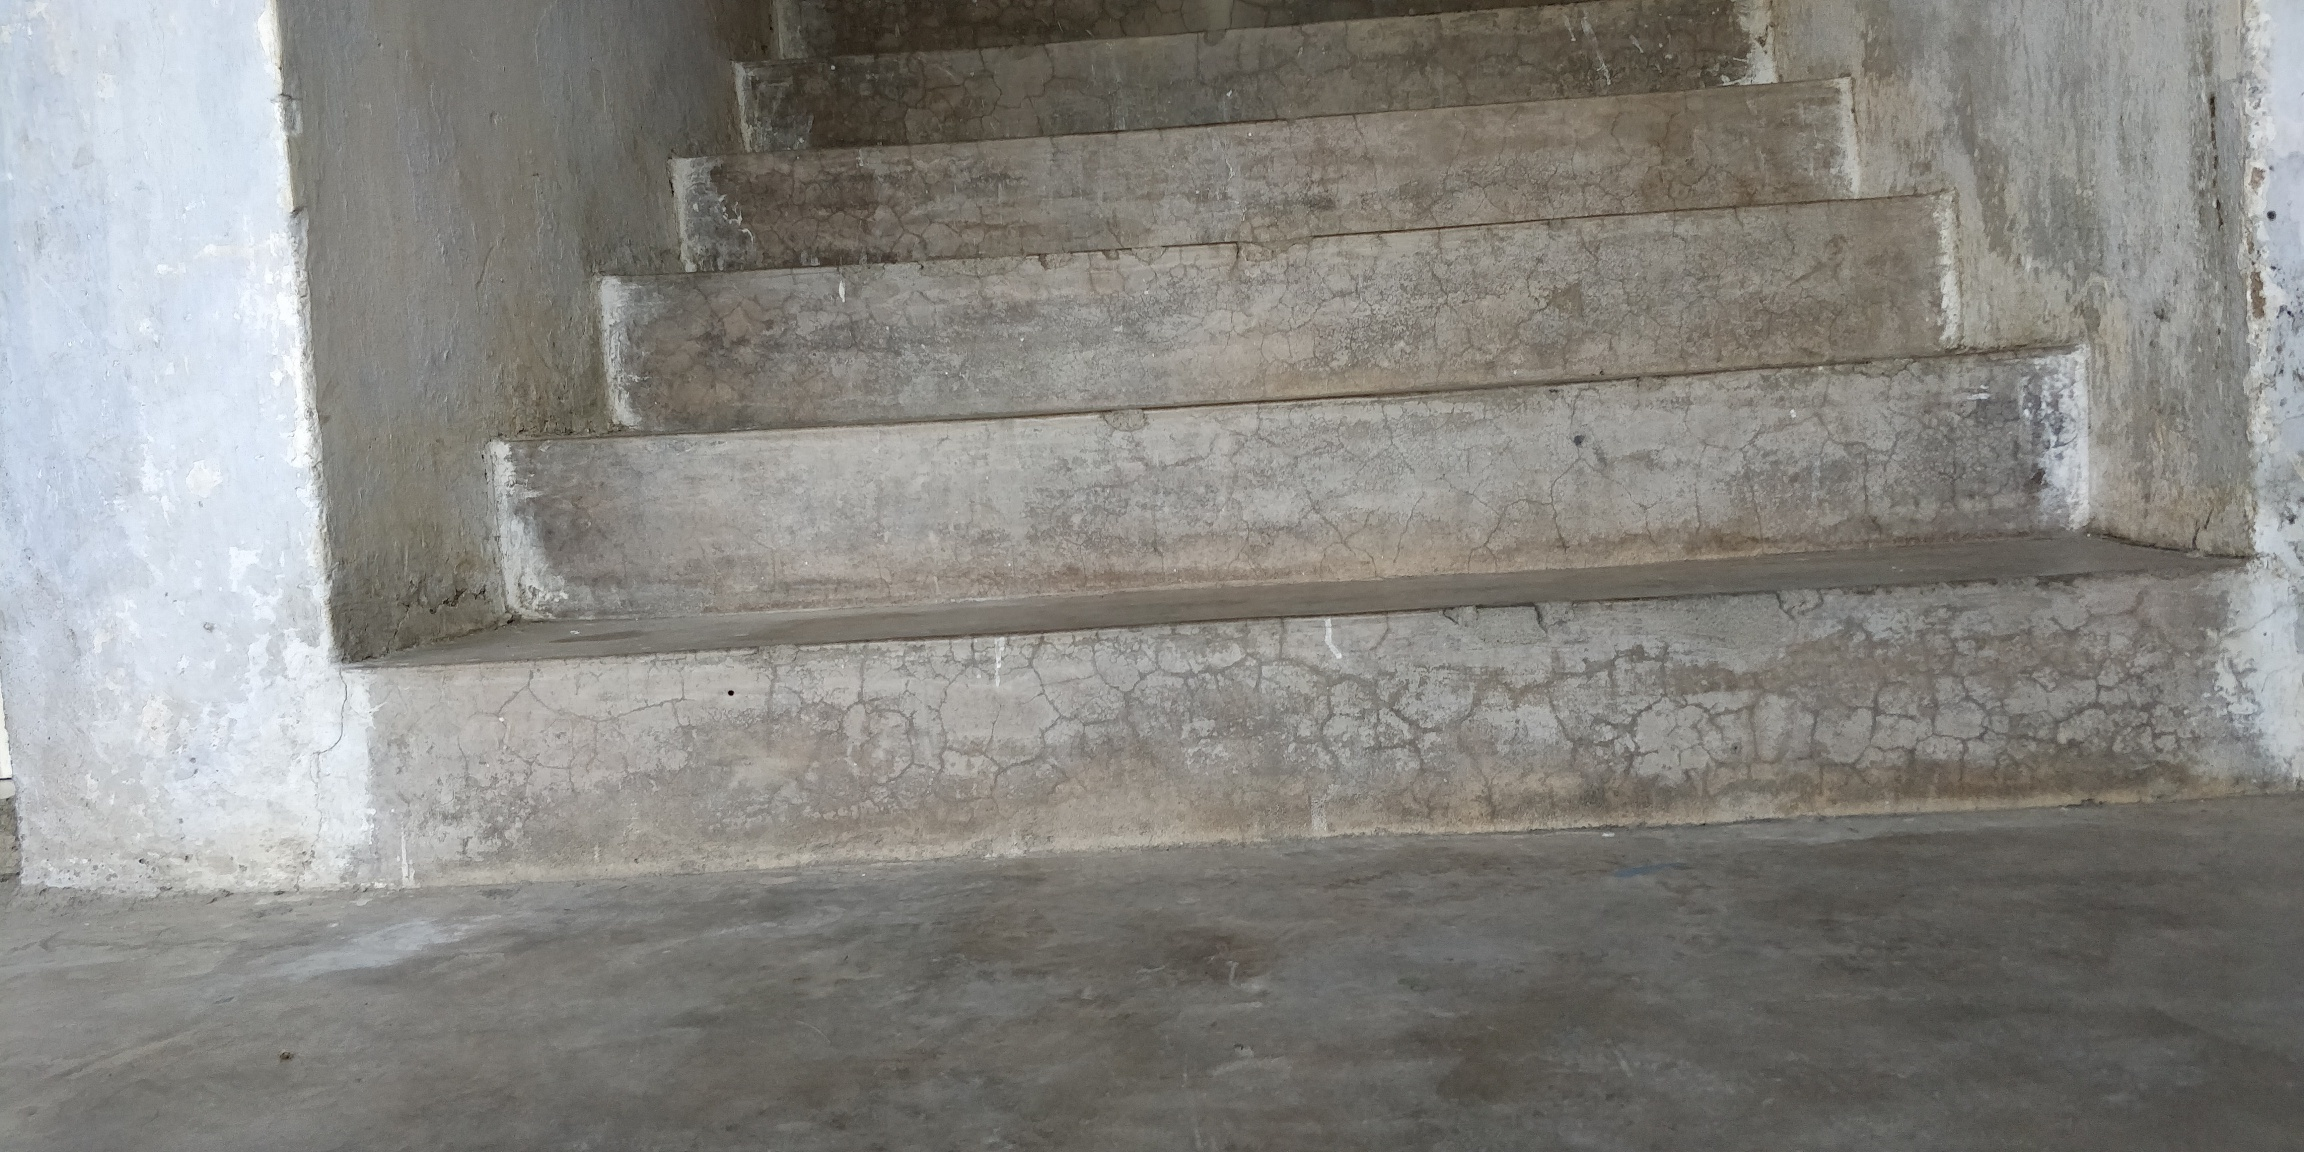stairs_up: (382, 75, 2217, 863)
